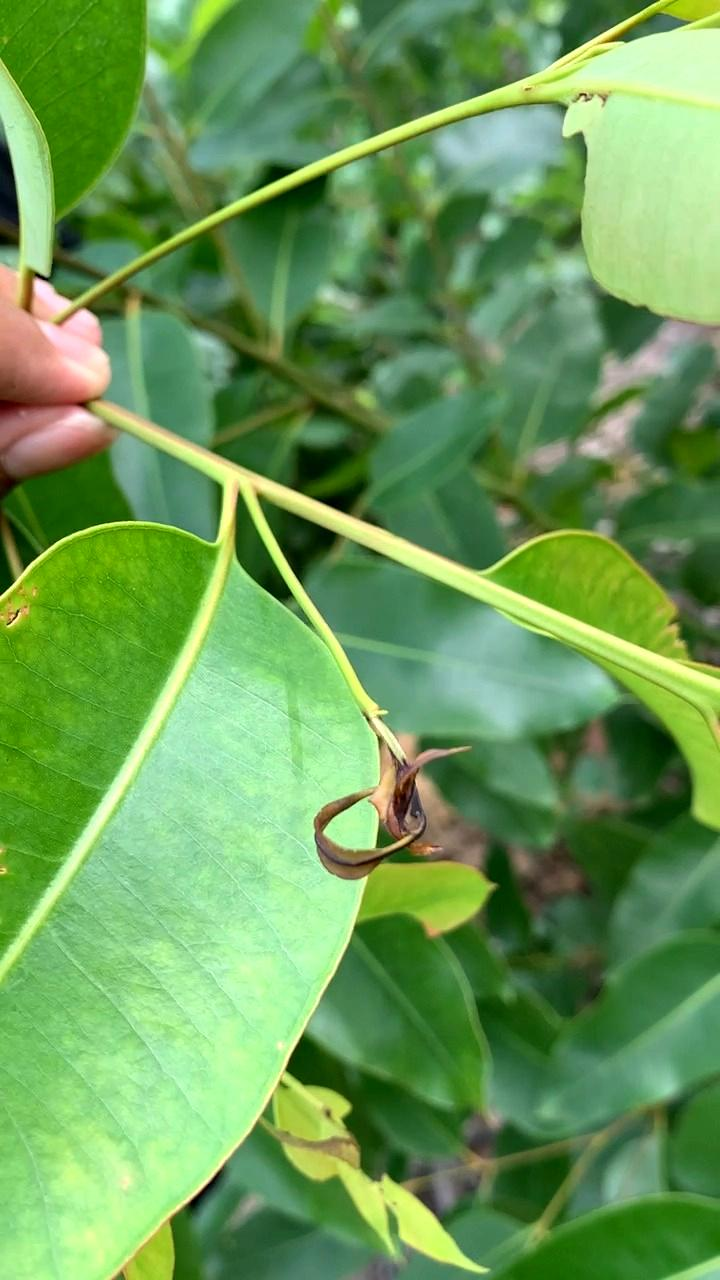Helopeltis-Withered Sprout: (298, 728, 487, 877)
